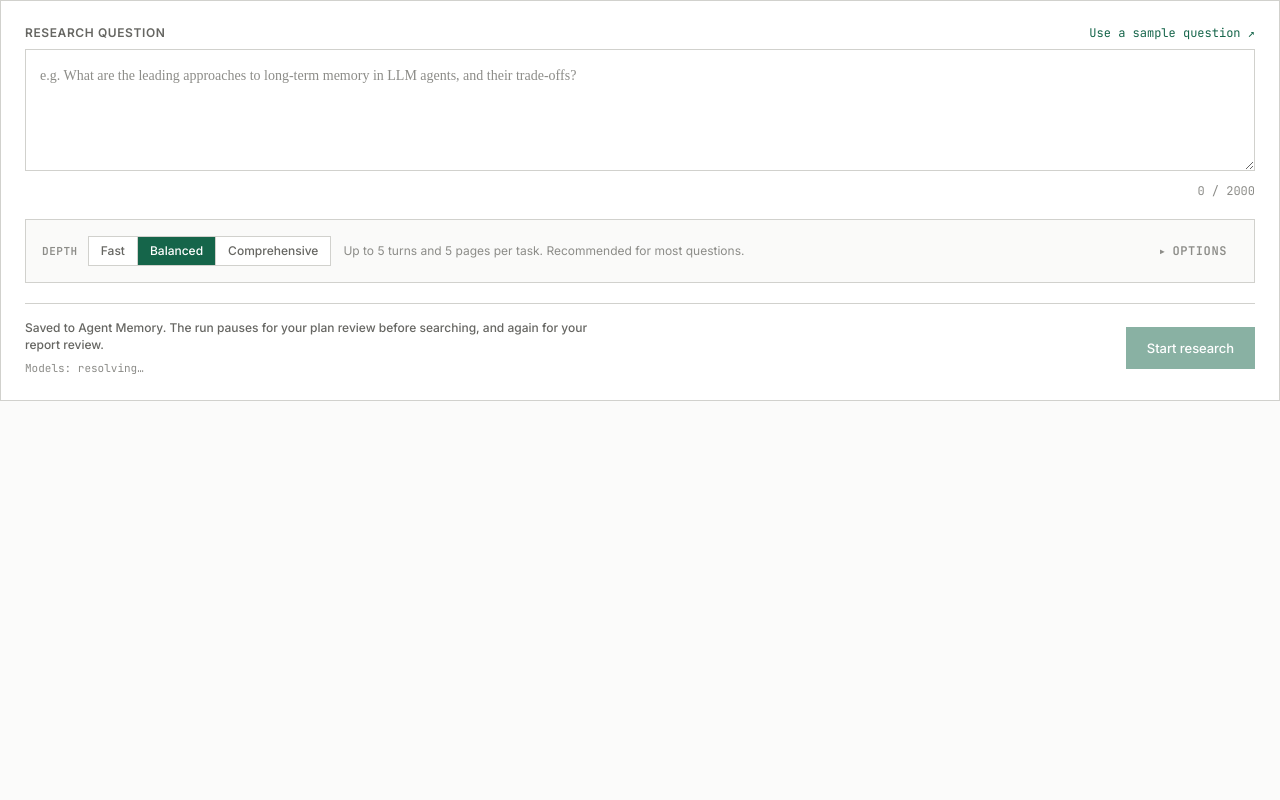
Test: StartResearchForm › names departures from the default on the closed disclosure, and only those
What coordinates should you click on to do the following:
click the button "▸ Options"
I would click on:
 (1193, 251)
Its box is [1147,238,1238,264].
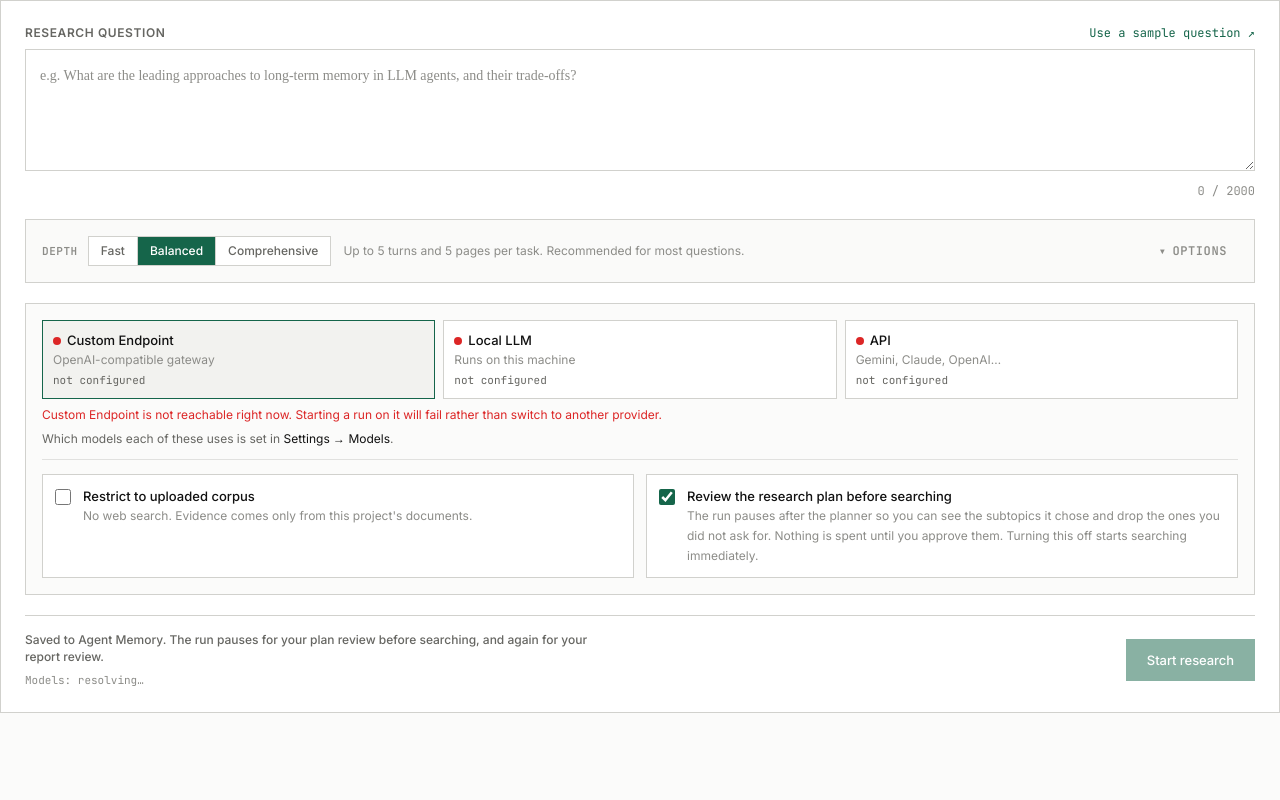
What coordinates should you click on to do the following:
click the checkbox labelled "Restrict to uploaded corpus"
I would click on:
 (63, 497)
Its box is [55,489,71,505].
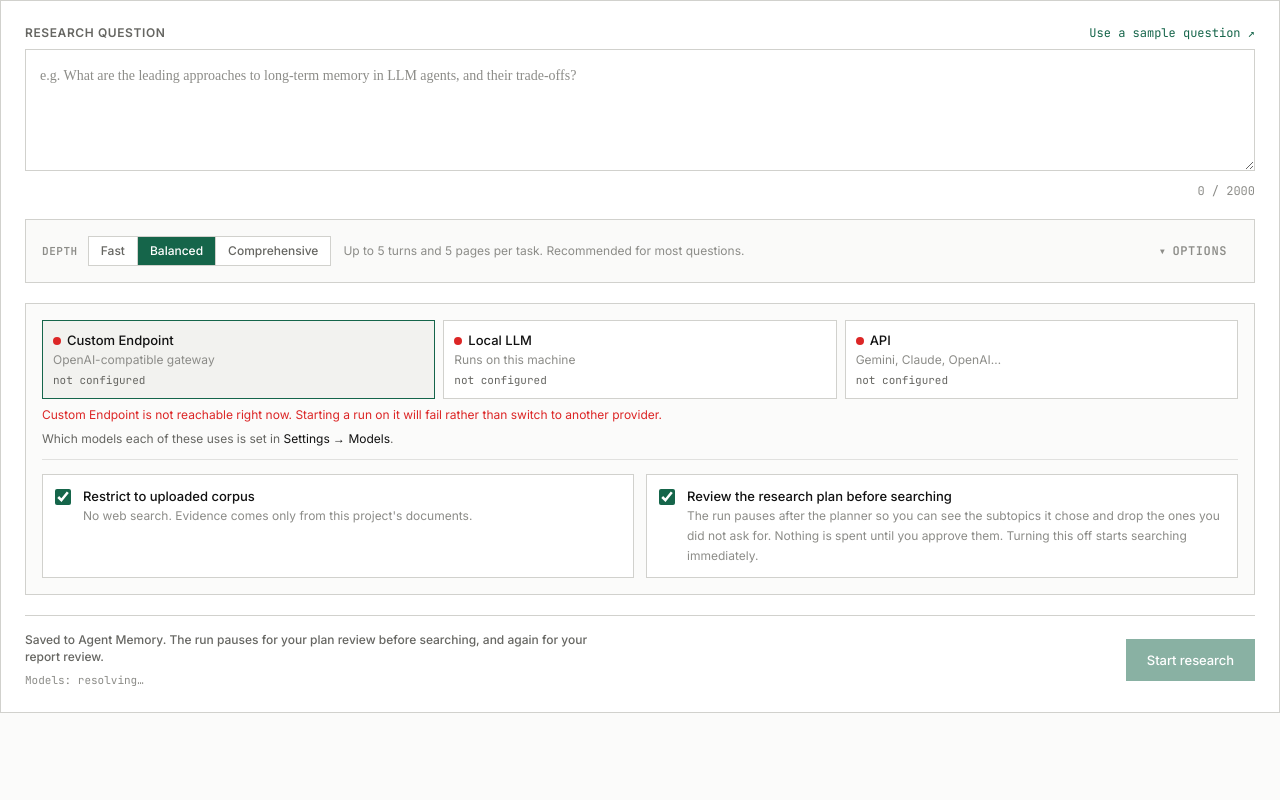
What coordinates should you click on to do the following:
click the checkbox labelled "Review the research plan"
I would click on:
 (667, 497)
Its box is [659,489,675,505].
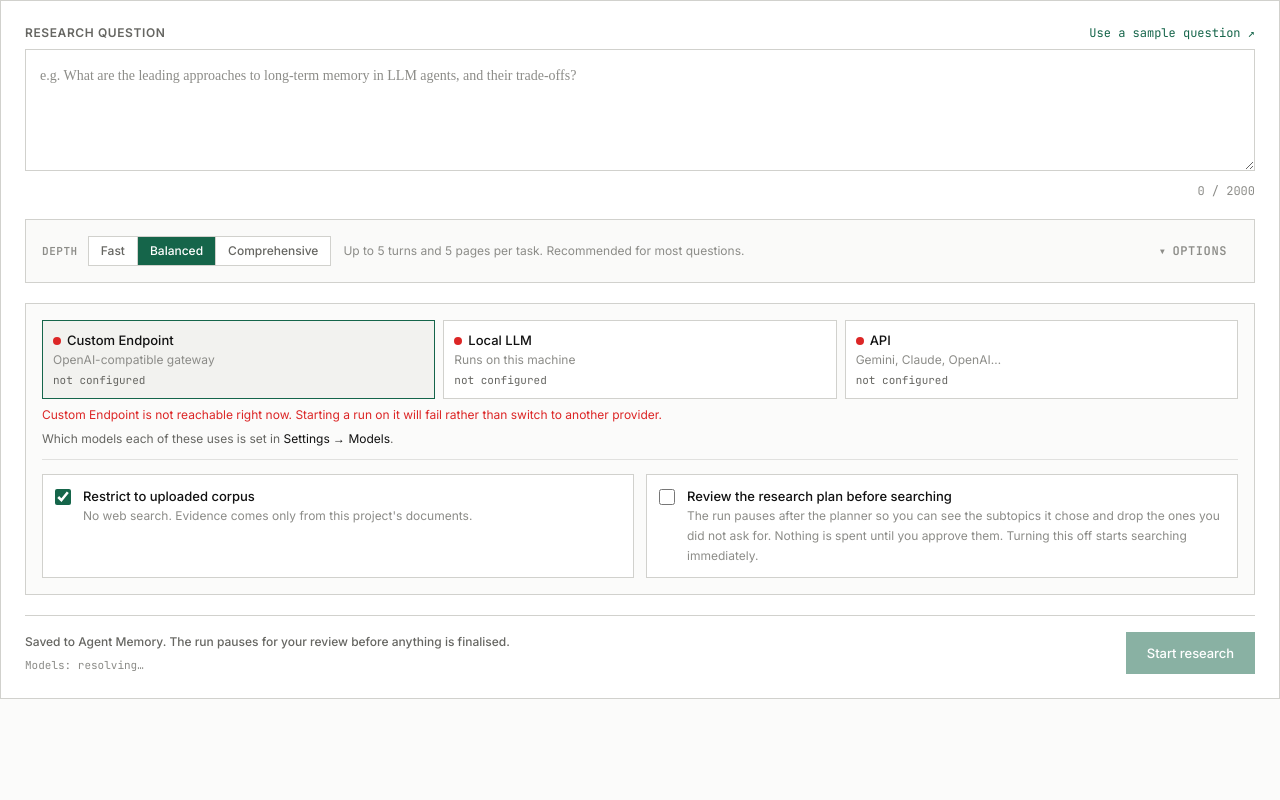
What coordinates should you click on to do the following:
click the button "▾ Options"
I would click on:
 (1193, 251)
Its box is [1147,238,1238,264].
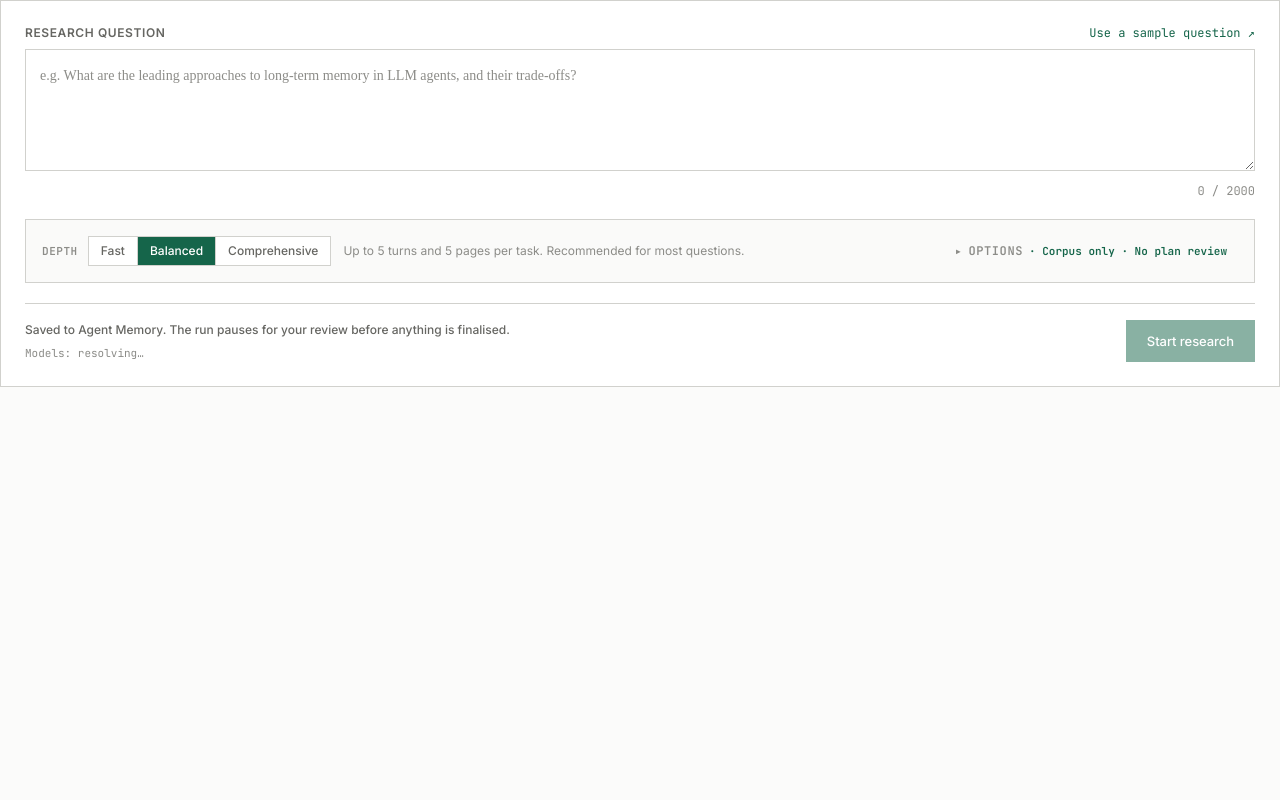
Expected: the text "· Corpus only · No plan review" is shown, [1029,244,1227,259]
